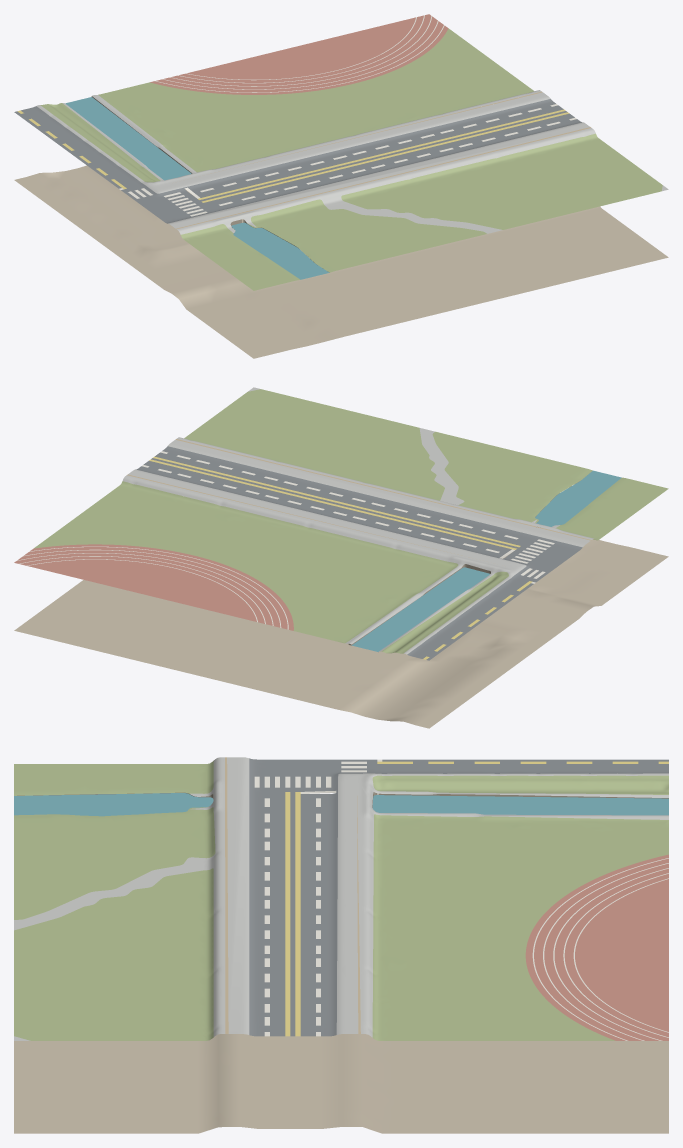
3 renders of one model, top to bottom at view 1: azimuth 30°, elevation 25°; view 2: azimuth 150°, elevation 25°; view 3: azimuth 270°, elevation 25°, orthographic. The views are drawn at different scales.
Visible parts, largest first — view 1: s_-8_5__grass, s_-8_5__soil, s_-8_5__asphalt, s_-8_5__stone_paving, s_-8_5__red_court, s_-8_5__water, s_-8_5__white_marking, s_-8_5__yellow_marking, s_-8_5__timber_deck; view 2: s_-8_5__grass, s_-8_5__soil, s_-8_5__asphalt, s_-8_5__stone_paving, s_-8_5__red_court, s_-8_5__water, s_-8_5__white_marking, s_-8_5__yellow_marking, s_-8_5__timber_deck; view 3: s_-8_5__grass, s_-8_5__soil, s_-8_5__asphalt, s_-8_5__stone_paving, s_-8_5__red_court, s_-8_5__water, s_-8_5__white_marking, s_-8_5__yellow_marking, s_-8_5__timber_deck, s_-8_5__shore_bank.
Part boxes in pixels (x1,y1,x2,y2): s_-8_5__grass: (40, 28, 662, 290); s_-8_5__soil: (14, 165, 668, 358); s_-8_5__asphalt: (14, 99, 581, 223); s_-8_5__stone_paving: (36, 90, 668, 234); s_-8_5__red_court: (150, 14, 448, 94); s_-8_5__water: (65, 97, 329, 279); s_-8_5__white_marking: (119, 15, 576, 216); s_-8_5__yellow_marking: (17, 109, 569, 202); s_-8_5__timber_deck: (176, 91, 591, 229); s_-8_5__grass: (34, 389, 668, 653); s_-8_5__soil: (14, 539, 668, 728); s_-8_5__asphalt: (136, 446, 582, 660); s_-8_5__stone_paving: (122, 387, 593, 654); s_-8_5__red_court: (14, 544, 293, 630); s_-8_5__water: (352, 470, 621, 651); s_-8_5__white_marking: (17, 451, 554, 629); s_-8_5__yellow_marking: (149, 456, 532, 659); s_-8_5__timber_deck: (127, 439, 591, 557); s_-8_5__grass: (14, 761, 668, 1040); s_-8_5__soil: (14, 1034, 668, 1133); s_-8_5__asphalt: (249, 758, 668, 1036); s_-8_5__stone_paving: (14, 757, 668, 1040); s_-8_5__red_court: (525, 854, 668, 1040); s_-8_5__water: (14, 793, 668, 816); s_-8_5__white_marking: (254, 759, 668, 1040); s_-8_5__yellow_marking: (285, 761, 668, 1036); s_-8_5__timber_deck: (225, 757, 360, 1033); s_-8_5__shore_bank: (17, 792, 668, 807).
Size of the model in its own units: 128 by 21.86 by 128.
